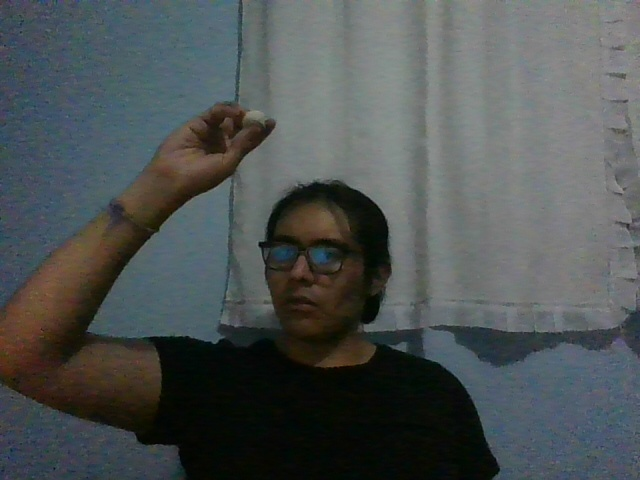goma: (242, 110, 265, 128)
